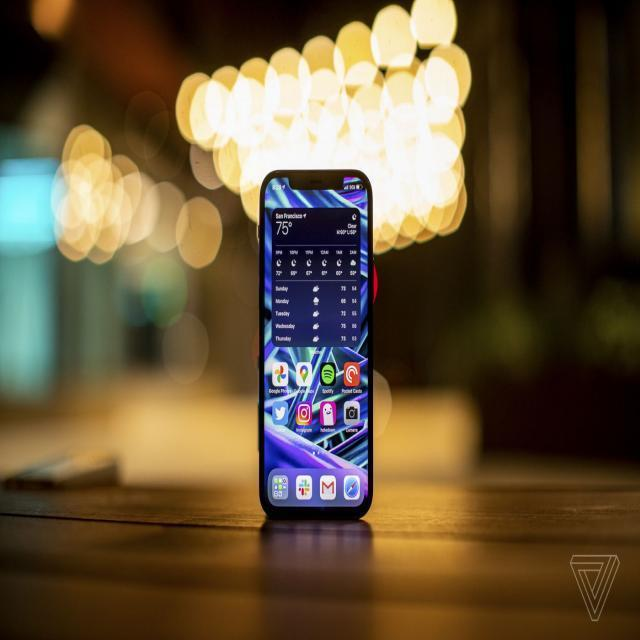Phone: (258, 164, 374, 522)
